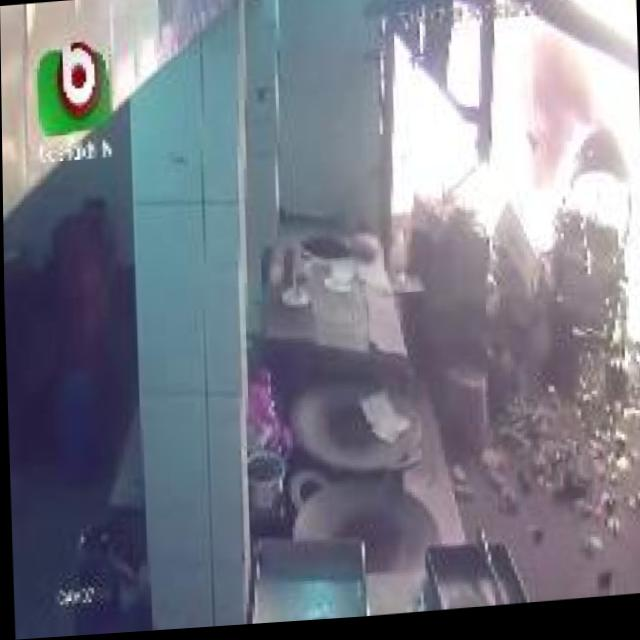fire: (506, 0, 640, 372), (390, 18, 569, 295)
